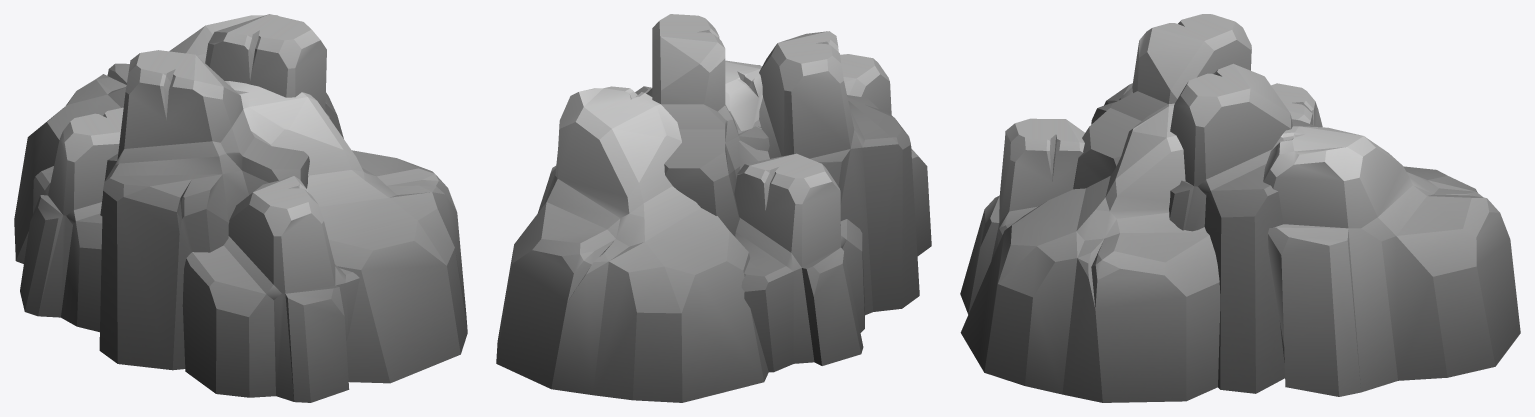
File: SM_RockFormation1.fbx
3 views of the same model, side by side, from view 1: azimuth 30°, elevation 25°; view 2: azimuth 150°, elevation 25°; view 3: azimuth 270°, elevation 25° (orthographic). The views are drawn at different scales.
Parts seen in each view (by area): view 1: RockFormation1; view 2: RockFormation1; view 3: RockFormation1.
Boxes of the visible parts, x1=… form: RockFormation1: x1=14, y1=14, x2=467, y2=402; RockFormation1: x1=496, y1=14, x2=931, y2=402; RockFormation1: x1=960, y1=14, x2=1520, y2=402.
Bounding box in the file's own units: 436 × 310 × 614.
